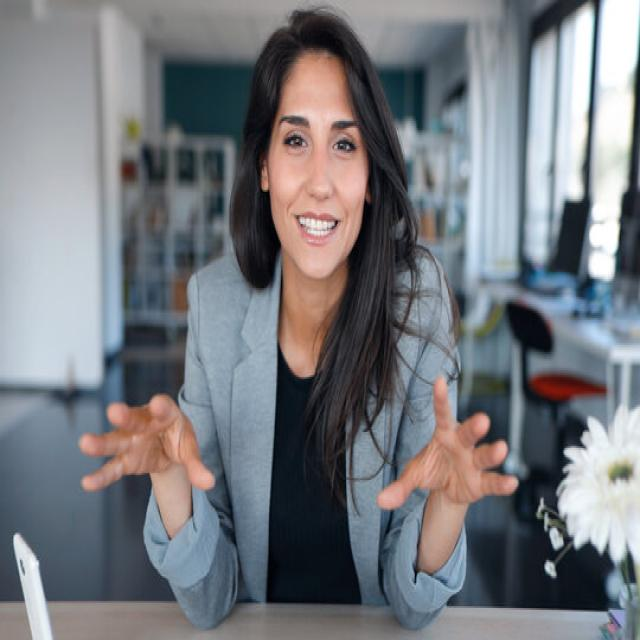Hand: (373, 371, 522, 524), (76, 384, 218, 518)
